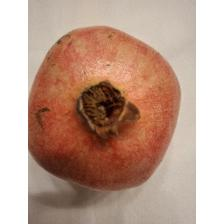Granatapfel: (30, 25, 182, 195)
